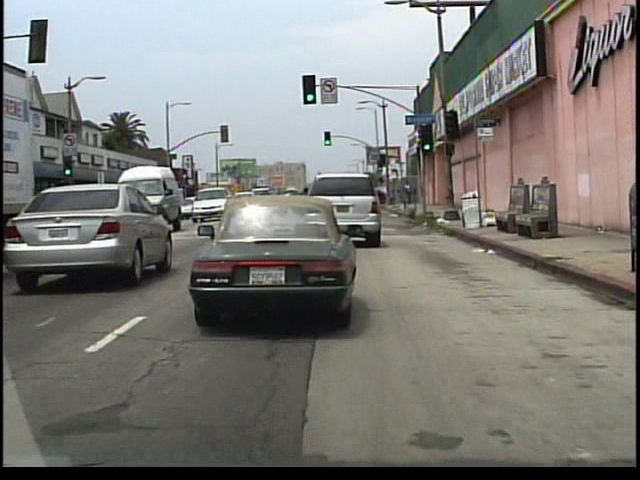person: (405, 179, 414, 204)
